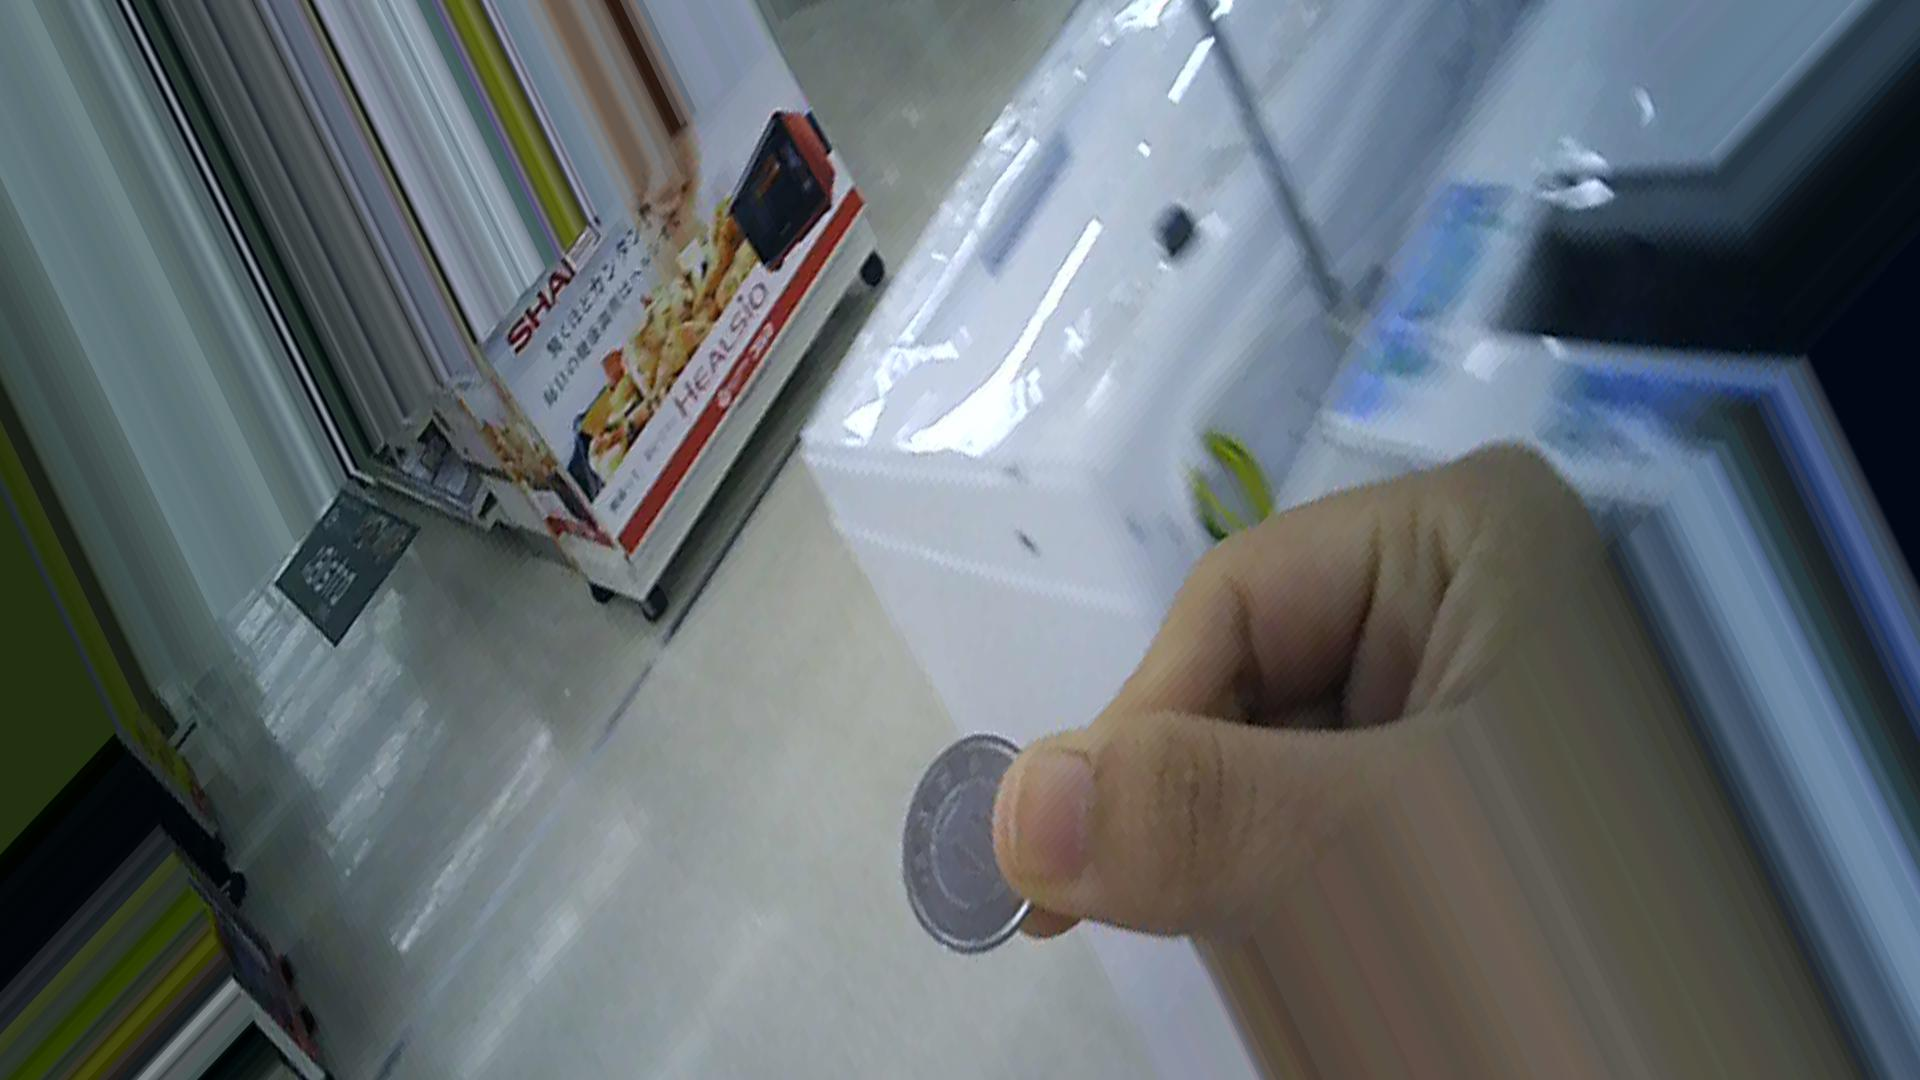1 Yen: (887, 728, 1051, 956)
